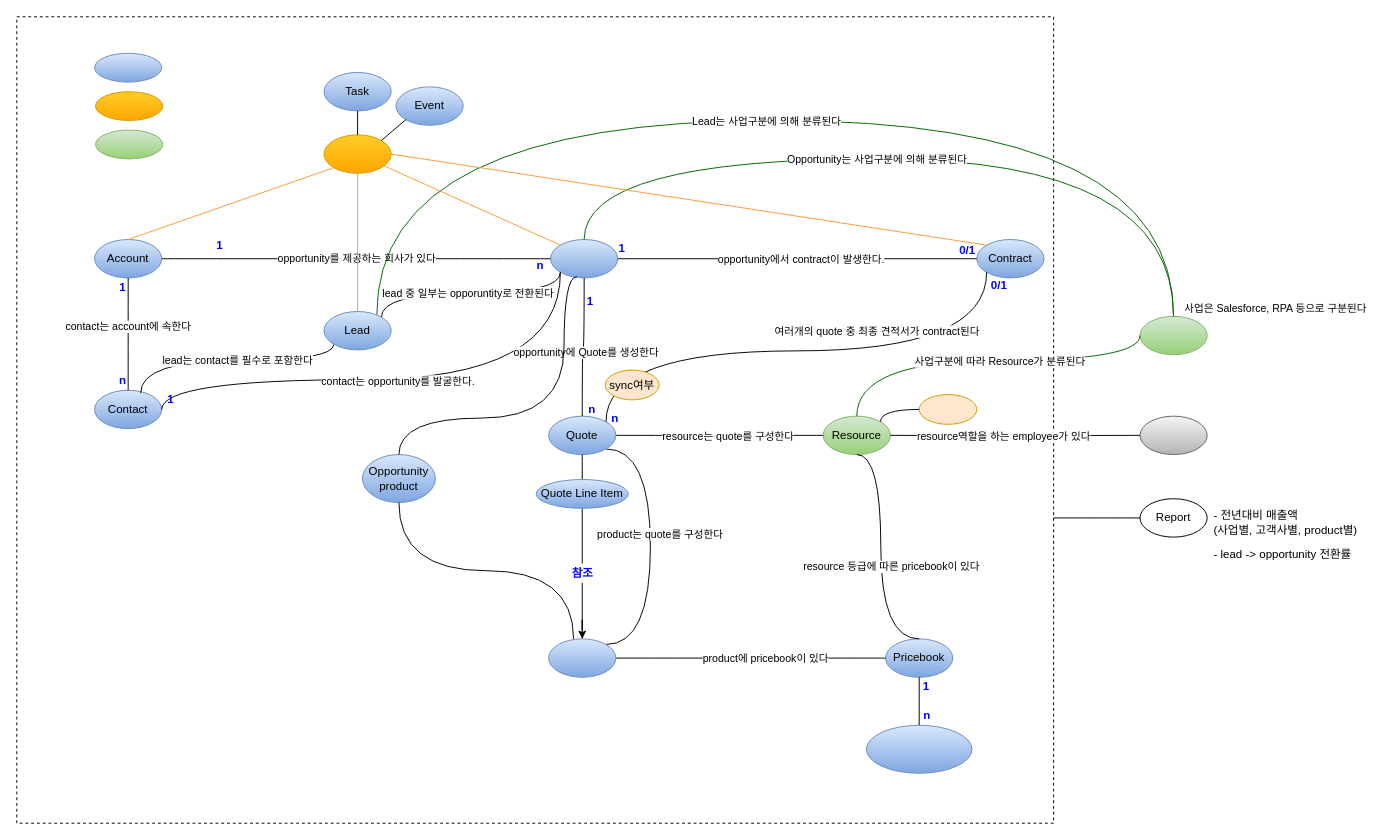
The diagram is 1392 pixels wide and 840 high, and some of its shapes have lost their labels. The shapes that lost their labels are listed below. From the top down, each one's centre as x and y in pixels, then its label:
At (357,153): "Activity".
At (584,258): "Opportunity".
At (1173,335): "Business".
At (947,409): "년차".
At (1173,435): "Employee".
At (582,657): "Product".
At (918,748): "Pricebook Entry".
